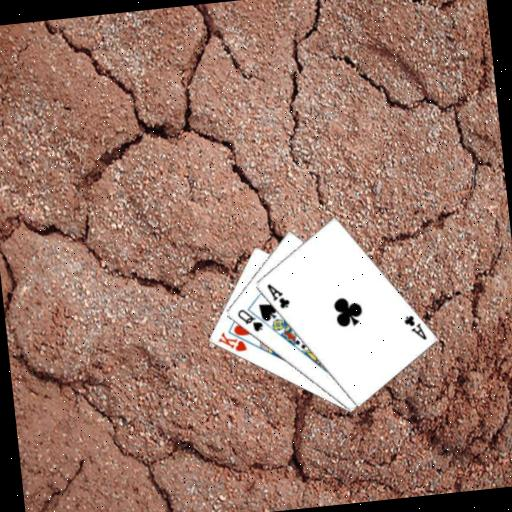AC: (263, 279, 292, 312), (400, 311, 428, 344)
KH: (214, 326, 249, 356)
QS: (234, 304, 265, 335)
